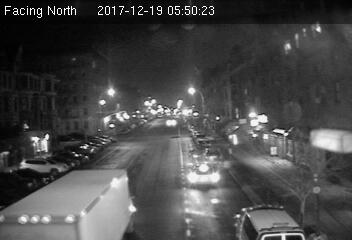car: (186, 162, 223, 189)
police: (232, 201, 306, 240)
